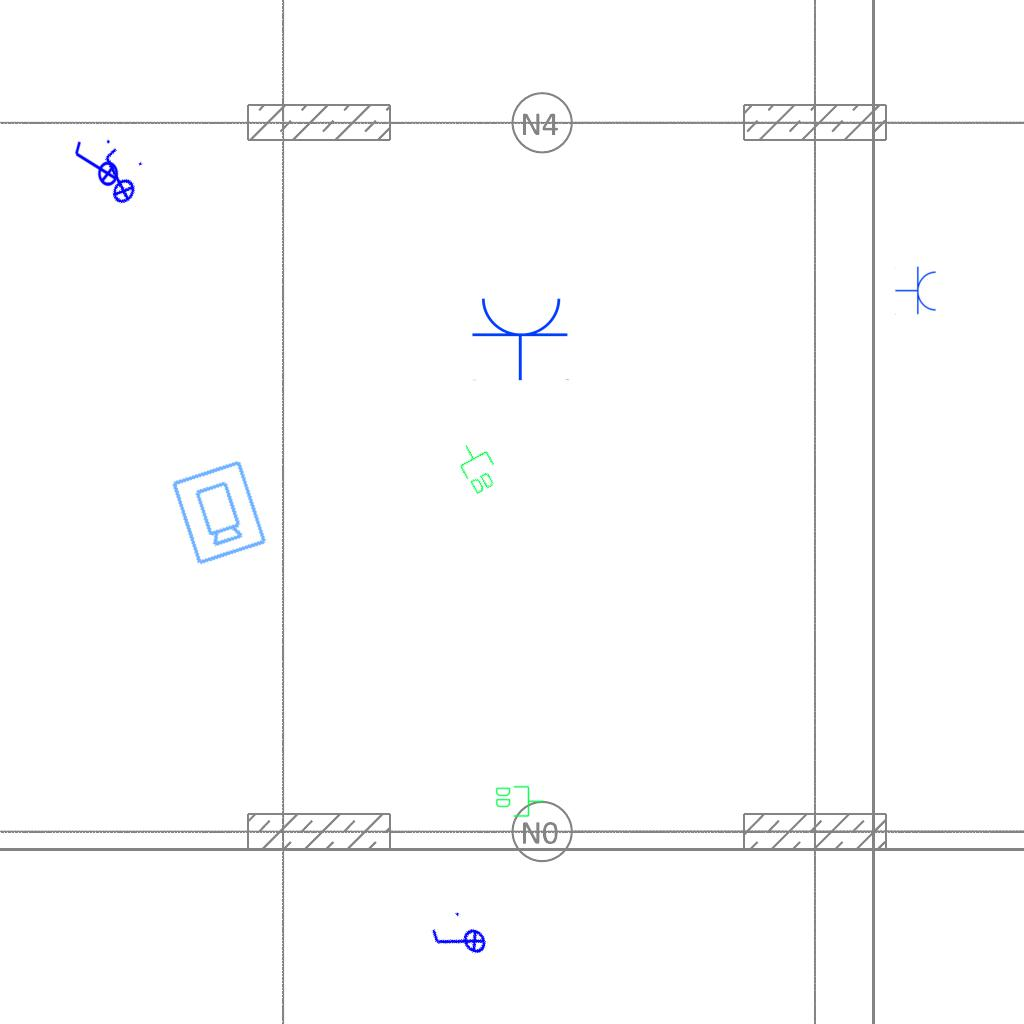Ausschalter_beleuchtet: (423, 904, 495, 978), (82, 140, 152, 214), (71, 137, 119, 193)
Datenanschluss_zweifach: (450, 436, 505, 498), (494, 784, 545, 818)
KFO_Kamera_mit_Festobjektiv: (167, 457, 270, 568)
Schukosteckdose_einfach: (471, 294, 571, 381), (895, 266, 938, 316)
